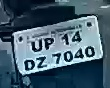0: (62, 49, 74, 64), (85, 44, 96, 58)
1: (60, 30, 70, 47)
4: (70, 30, 83, 44), (73, 47, 84, 61)
7: (50, 52, 62, 67)
D: (23, 58, 36, 72)
P: (43, 36, 55, 51)
U: (30, 37, 43, 53)
Z: (35, 56, 49, 72)
